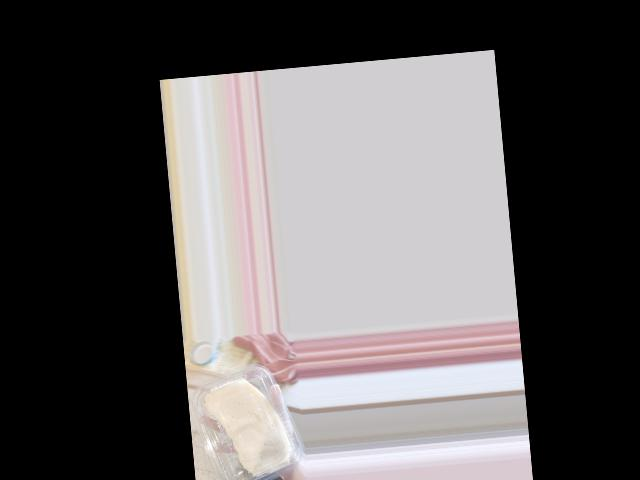cheese: (191, 359, 300, 480)
